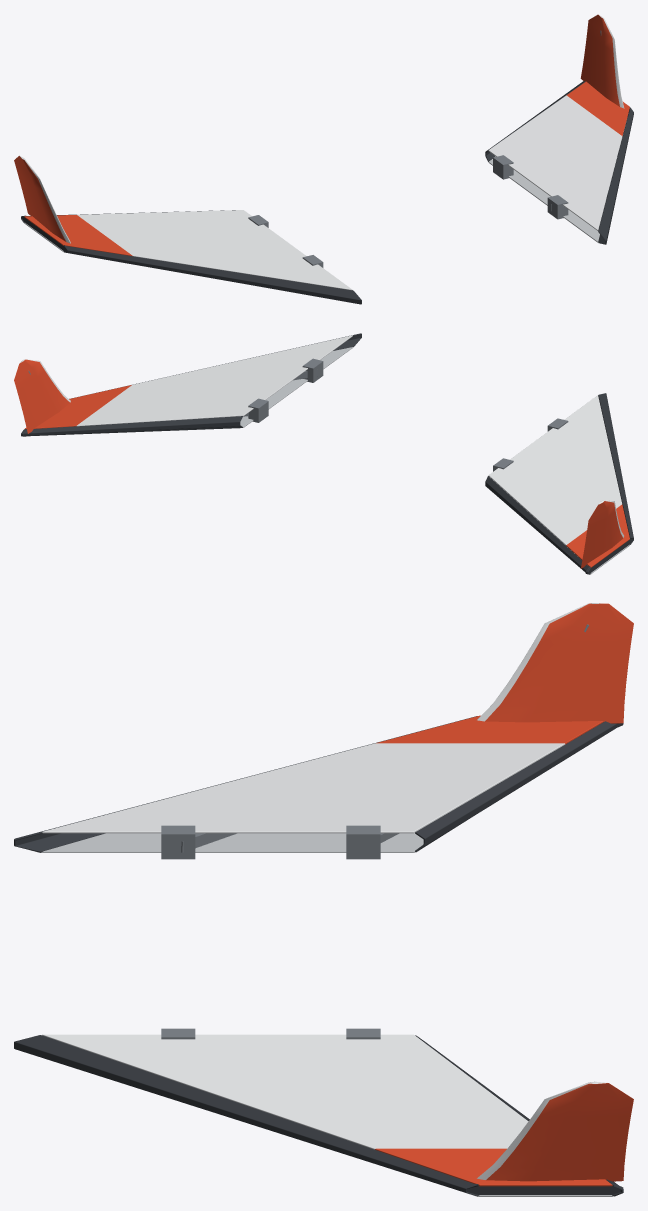
Rendered from vortex_wing_stock.fbx.
The picture shows the model from 3 angles, top to bottom: view 1: azimuth 30°, elevation 25°; view 2: azimuth 150°, elevation 25°; view 3: azimuth 270°, elevation 25°; orthographic projection. The views are drawn at different scales.
Parts seen in each view (by area): view 1: Wing_Top_L, Wing_Top_R, Wing_LE_L, Wing_Fold_R, Wing_Fold_L, Wing_LE_R, Wing_Bottom_R, Wing_Structure_R; view 2: Wing_Top_L, Wing_Top_R, Wing_Fold_R, Wing_TE_R, Wing_Fold_L, Wing_TE_L, Wing_LE_L, Wing_Structure_R, Wing_Bottom_R, Wing_LE_R; view 3: Wing_Top_R, Wing_Top_L, Wing_Fold_L, Wing_Fold_R, Wing_LE_R, Wing_Bottom_L, Wing_TE_L, Wing_Structure_L, Wing_LE_L, Wing_Tip_R, Wing_Structure_R.
Boxes of the visible parts, box(x1,y1,x2,y2) form: Wing_Top_L: box(24, 210, 352, 290); Wing_Top_R: box(488, 81, 629, 230); Wing_LE_L: box(64, 245, 361, 304); Wing_Fold_R: box(580, 14, 624, 108); Wing_Fold_L: box(14, 155, 70, 243); Wing_LE_R: box(598, 107, 633, 244); Wing_Bottom_R: box(488, 121, 626, 242); Wing_Structure_R: box(493, 113, 628, 219); Wing_Top_L: box(488, 395, 629, 567); Wing_Top_R: box(25, 335, 352, 428); Wing_Fold_R: box(14, 359, 70, 433); Wing_TE_R: box(21, 416, 242, 436); Wing_Fold_L: box(580, 500, 623, 568); Wing_TE_L: box(485, 476, 590, 574); Wing_LE_L: box(598, 393, 633, 544); Wing_Structure_R: box(243, 358, 323, 422); Wing_Bottom_R: box(240, 347, 352, 427); Wing_LE_R: box(69, 333, 361, 398); Wing_Top_R: box(42, 1034, 612, 1186); Wing_Top_L: box(42, 715, 603, 833); Wing_Fold_L: box(477, 603, 633, 723); Wing_Fold_R: box(477, 1081, 633, 1181); Wing_LE_R: box(14, 1035, 477, 1196); Wing_Bottom_L: box(42, 833, 423, 852); Wing_TE_L: box(415, 721, 623, 852); Wing_Structure_L: box(161, 825, 399, 859); Wing_LE_L: box(14, 716, 476, 852); Wing_Tip_R: box(466, 1183, 623, 1196); Wing_Structure_R: box(161, 1028, 380, 1039).
Size of the model in its own units: 332 by 39.54 by 181.
